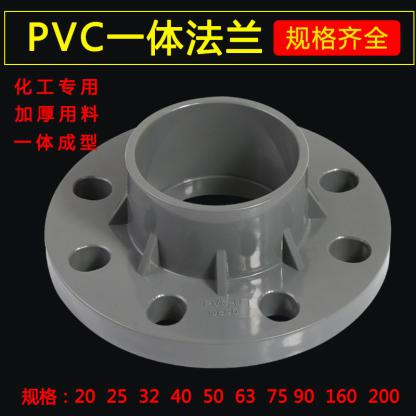FOD: (42, 91, 394, 375)
